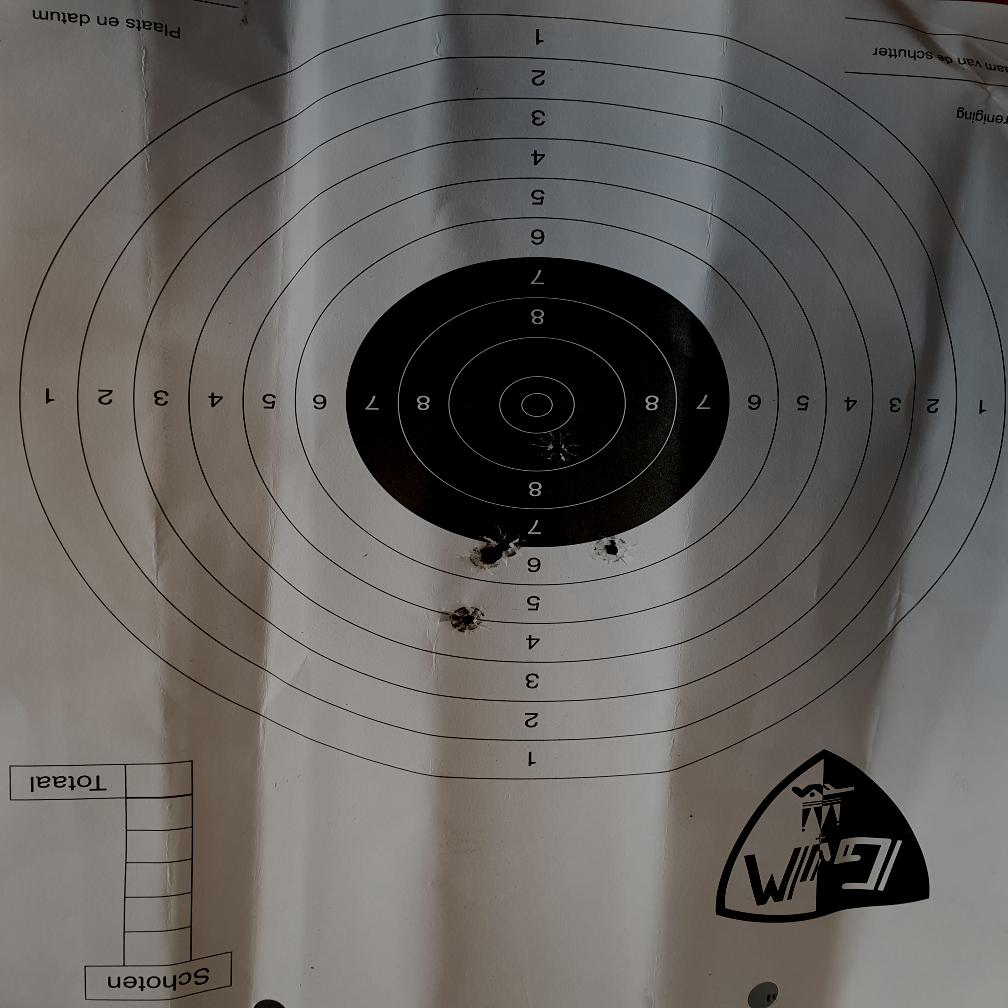5: (438, 604, 488, 637)
6: (464, 546, 500, 572)
7: (591, 533, 639, 567), (486, 531, 522, 556)
9: (531, 433, 581, 467)
Target: (22, 14, 998, 781)
black_contour: (346, 259, 728, 548)
